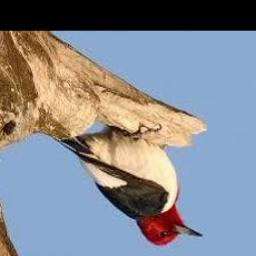Woodpecker: (60, 131, 203, 246)
